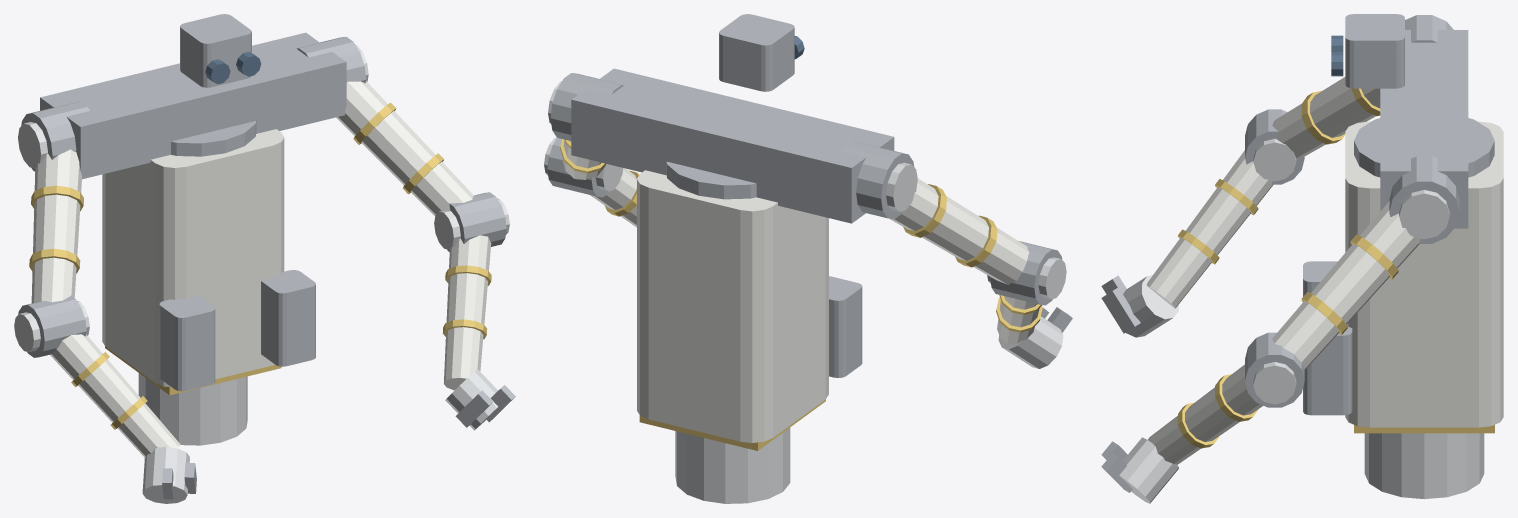
The model's file is orbital-station-and-docking-bays-dexterous-manipulator-243f0835__24556.glb.
3 views of the same model, side by side, from view 1: azimuth 30°, elevation 25°; view 2: azimuth 150°, elevation 25°; view 3: azimuth 270°, elevation 25° (orthographic). The views are drawn at different scales.
Parts seen in each view (by area): view 1: dexterous-manipulator, torso-roll (×2), arm-left-elbow (×2), arm-right-elbow (×2), arm-left-shoulder (×2), arm-right-shoulder; view 2: dexterous-manipulator, torso-roll, arm-left-shoulder (×2), arm-left-elbow (×2), arm-right-elbow (×2), arm-right-shoulder; view 3: dexterous-manipulator, torso-roll (×2), arm-right-shoulder (×2), arm-right-elbow (×2), arm-left-elbow (×2), arm-left-shoulder.
Part boxes in pixels (x1,y1,x2,y2): dexterous-manipulator: [29, 81, 515, 503]; torso-roll (×2): [40, 14, 346, 179]; arm-left-elbow (×2): [14, 295, 89, 357]; arm-right-elbow (×2): [434, 192, 509, 251]; arm-left-shoulder (×2): [18, 101, 89, 171]; arm-right-shoulder: [297, 36, 366, 83]; dexterous-manipulator: [560, 139, 1072, 503]; torso-roll: [571, 14, 894, 223]; arm-left-shoulder (×2): [842, 141, 917, 219]; arm-left-elbow (×2): [987, 241, 1066, 305]; arm-right-elbow (×2): [544, 137, 623, 197]; arm-right-shoulder: [550, 73, 623, 140]; dexterous-manipulator: [1101, 77, 1503, 503]; torso-roll (×2): [1331, 14, 1494, 228]; arm-right-shoulder (×2): [1389, 156, 1459, 243]; arm-right-elbow (×2): [1245, 332, 1304, 407]; arm-left-elbow (×2): [1245, 109, 1304, 184]; arm-left-shoulder: [1405, 15, 1453, 42].
Bounding box in the file's own units: 3.4 × 2.8 × 2.29.
